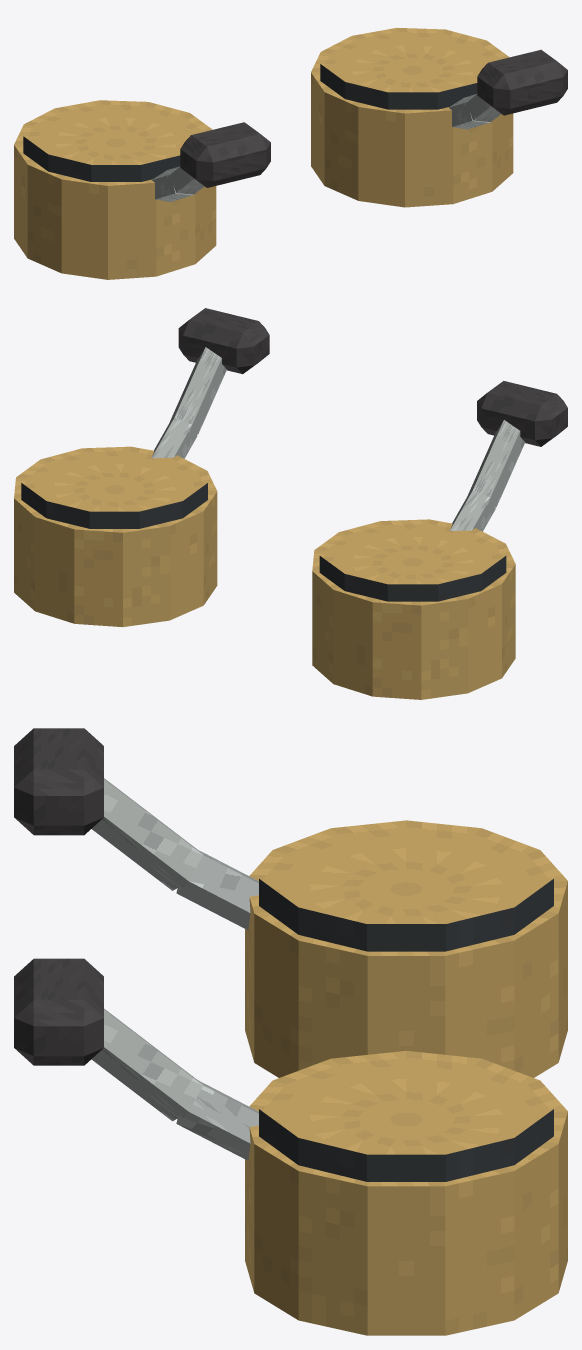
The model's file is attachable_ear_muffs.glb.
3 views of the same model, one above another, from view 1: azimuth 30°, elevation 25°; view 2: azimuth 150°, elevation 25°; view 3: azimuth 270°, elevation 25° (orthographic). The views are drawn at different scales.
Parts seen in each view (by area): view 1: block_ear cup (×2), block_mounting plate (×2), block_cushion edge (×2), block_helmet rail clip 0 (×2), block_helmet rail clip 1 (×2); view 2: block_ear cup (×2), block_mounting plate (×2), block_cushion edge (×2), block_helmet rail clip 1 (×2), block_helmet rail clip 0 (×2); view 3: block_ear cup (×2), block_mounting plate (×2), block_cushion edge (×2), block_helmet rail clip 1 (×2), block_helmet rail clip 0 (×2).
Part boxes in pixels (x1,y1,x2,y2): block_ear cup (×2): (14,27,513,279); block_mounting plate (×2): (180,49,567,187); block_cushion edge (×2): (23,64,477,181); block_helmet rail clip 0 (×2): (152,94,489,201); block_helmet rail clip 1 (×2): (170,94,500,194); block_ear cup (×2): (14,446,515,699); block_mounting plate (×2): (178,308,567,446); block_cushion edge (×2): (21,483,506,601); block_helmet rail clip 1 (×2): (169,347,525,507); block_helmet rail clip 0 (×2): (151,417,495,531); block_ear cup (×2): (245,820,567,1335); block_mounting plate (×2): (14,728,103,1065); block_cushion edge (×2): (259,879,553,1181); block_helmet rail clip 1 (×2): (91,778,202,1121); block_helmet rail clip 0 (×2): (176,850,258,1160).
Bounding box in the file's own units: 0.1197 × 0.0442 × 0.0766.
Materials: 1 (1 with a texture image).
